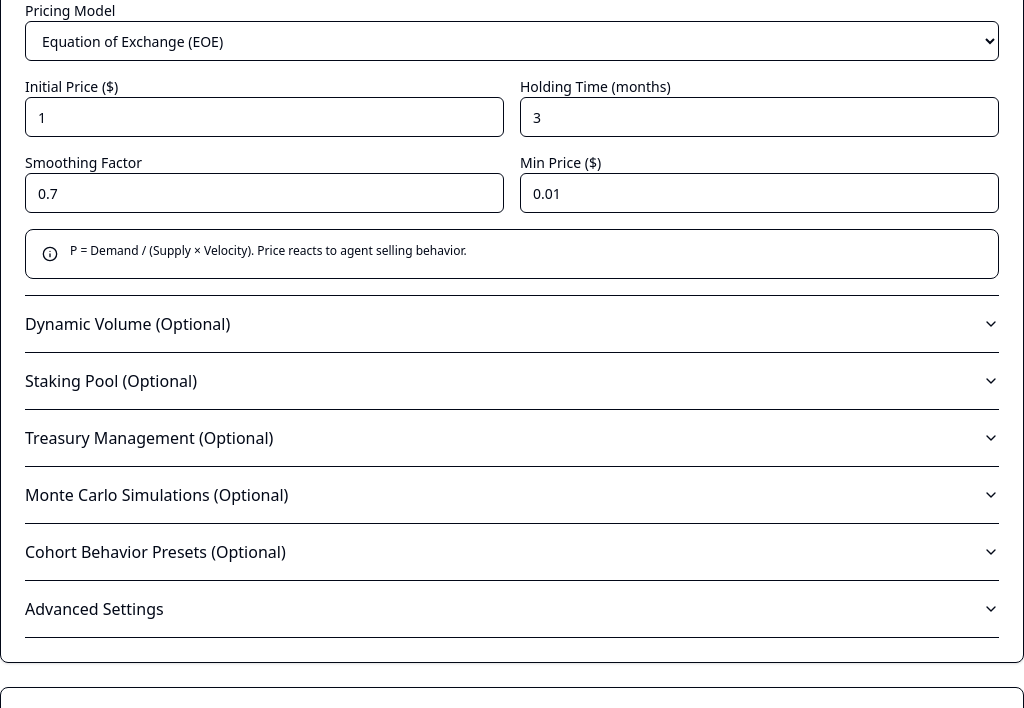
ABM Configuration Form - User Interactions › Staking Configuration › enables staking and shows staking fields
(page scrolled)
# Click staking accordion to expand it
What coordinates should you click on to do the following:
click the button "Staking Pool (Optional)"
I would click on:
 (111, 381)
Its box is [25,353,999,409].
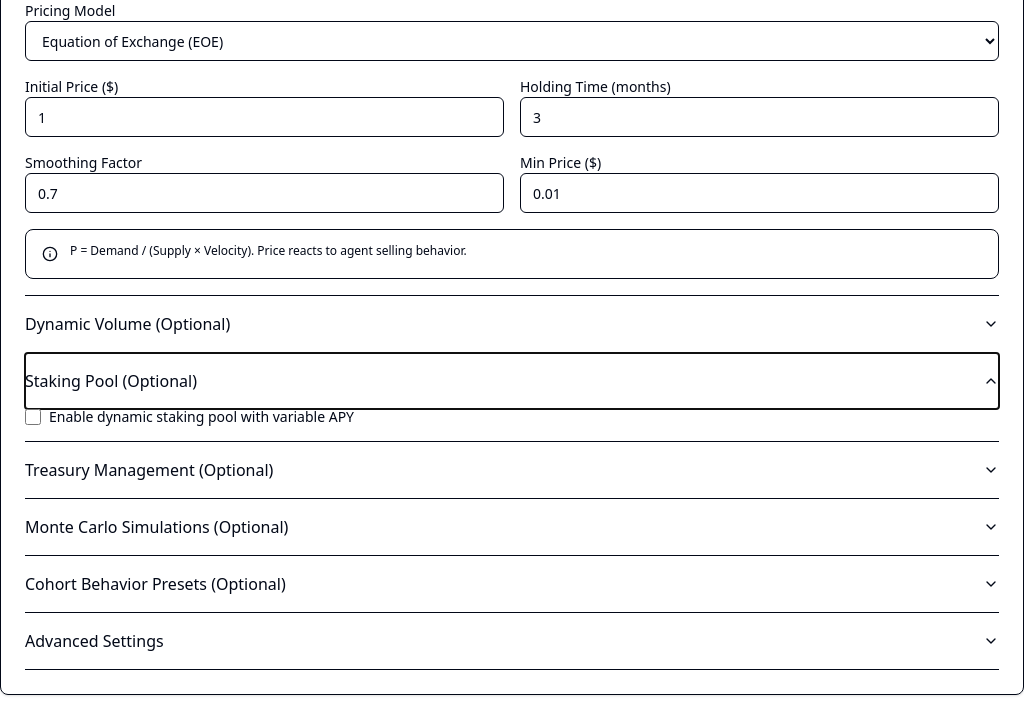
# Find and click staking checkbox
What coordinates should you click on to do the following:
click the checkbox labelled "Enable dynamic staking pool with variable APY"
I would click on:
 (33, 417)
Its box is [25,409,41,425].
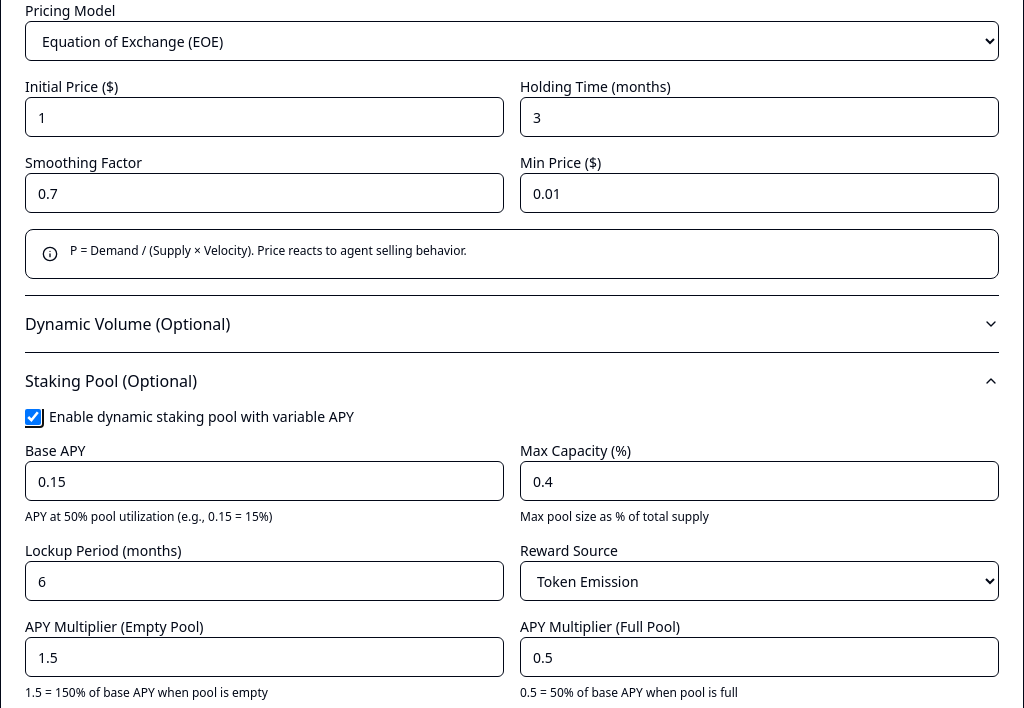
Result: the number field labelled "Base APY" is shown at [25,461,504,501]
Result: the number field labelled "Max Capacity (%)" is shown at [520,461,999,501]
Result: the number field labelled "Lockup Period (months)" is shown at [25,561,504,601]
